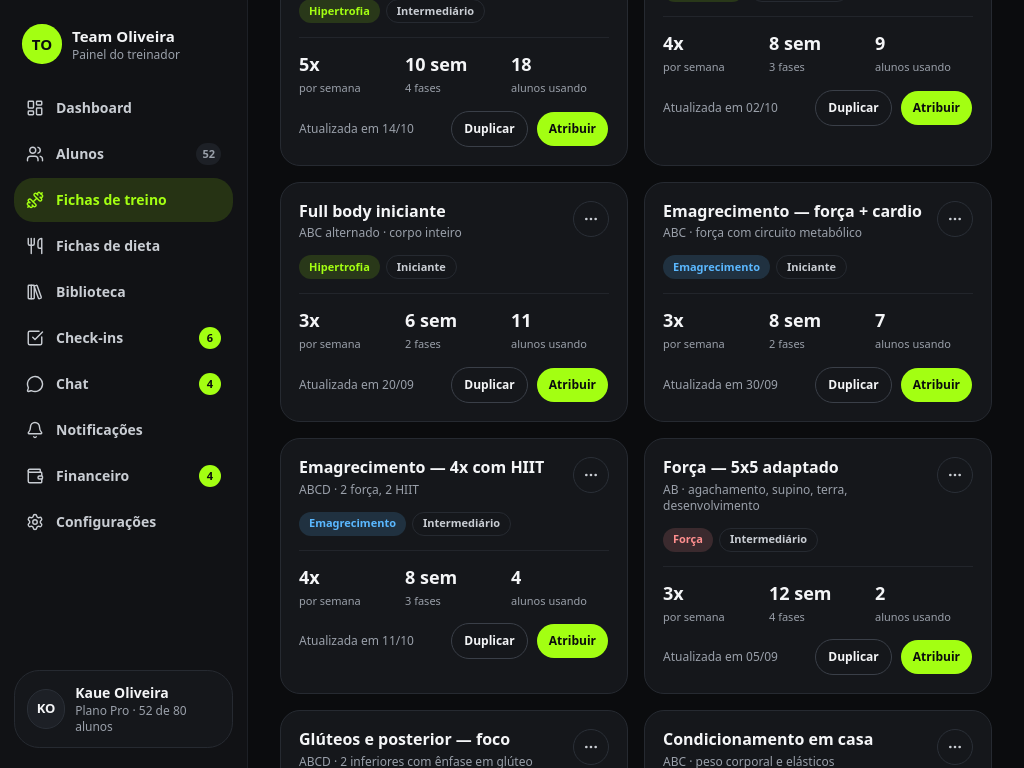
Test: Fichas de treino › vindo da lista de alunos: os escolhidos já chegam marcados
(page scrolled)
Click the button with aria-label "Atribuir Full body iniciante" at (572, 385), box [536,367,609,403]
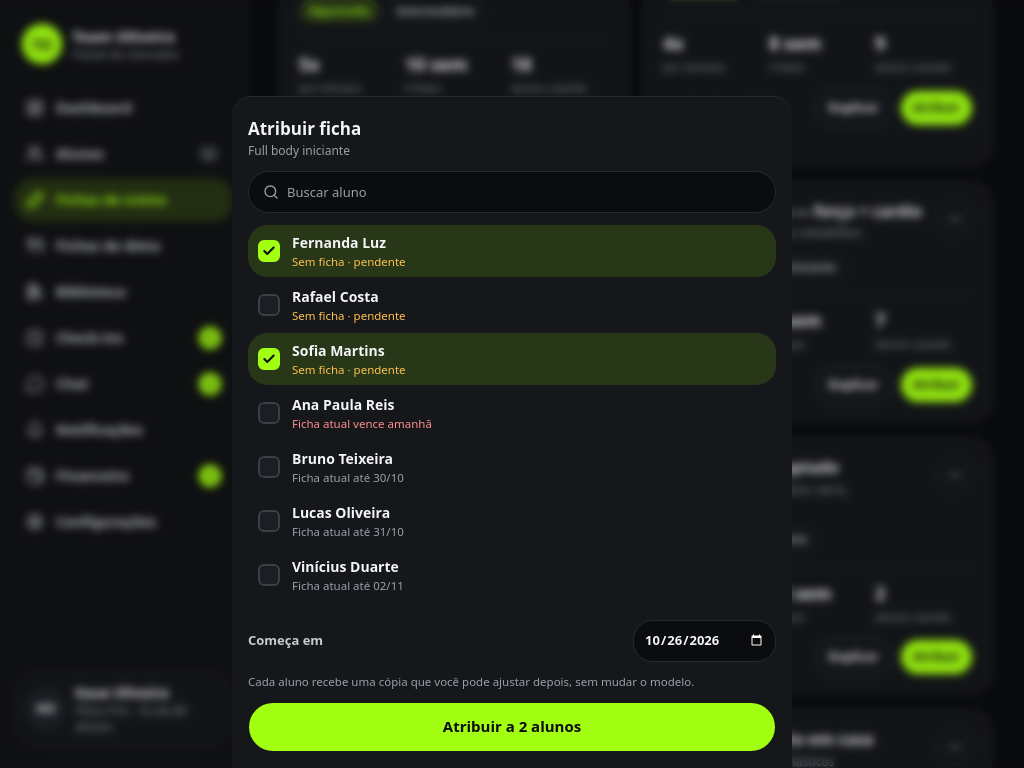
Expected: the checkbox named "Fernanda Luz" is checked, [258,240,280,262]
Expected: the checkbox named "Sofia Martins" is checked, [258,348,280,370]
Click the button "Atribuir a 2 alunos" at (512, 727), box [248,702,776,752]
(page scrolled)
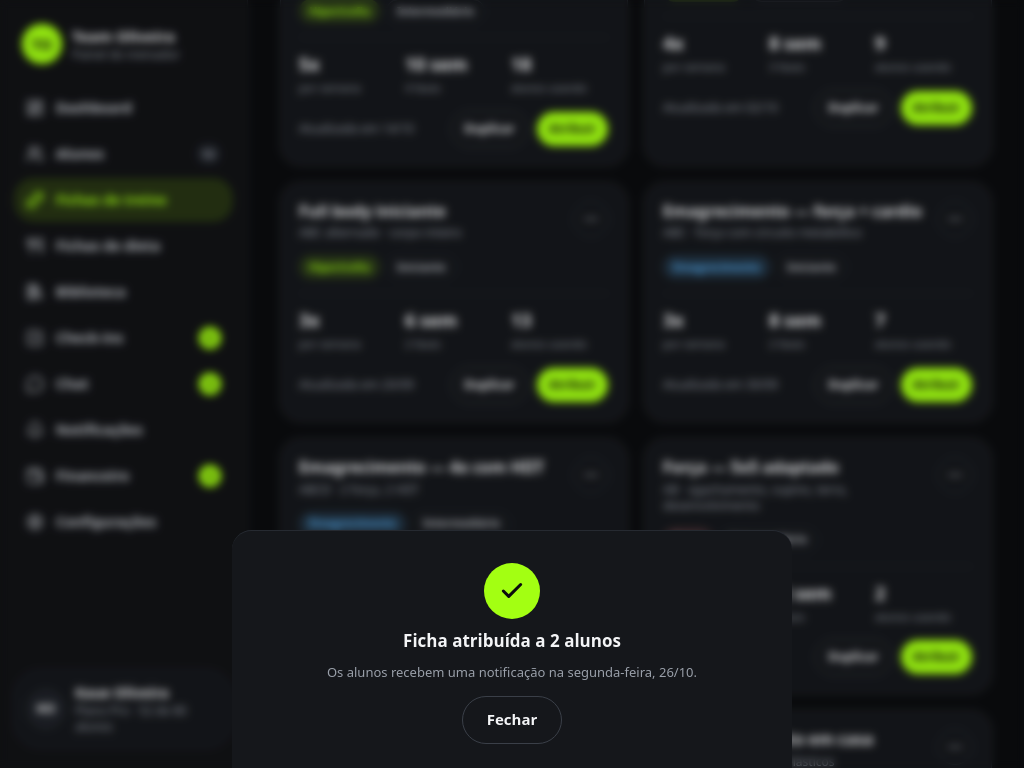
Expected: the heading "Ficha atribuída a 2 alunos" is shown, [403,629,621,654]
